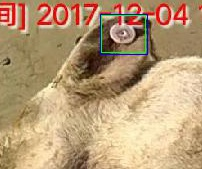text: (101, 15, 145, 52)
